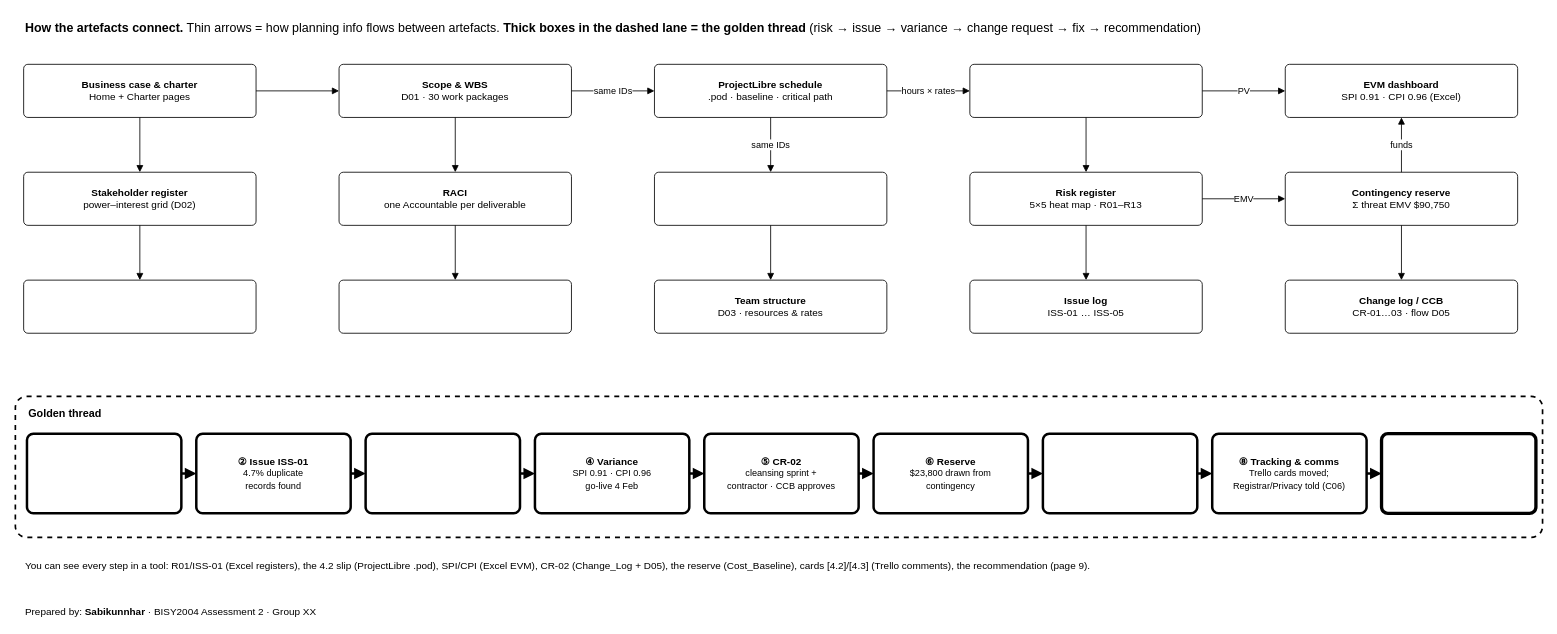
Image size: 1557x634. Some labels were removed from this diagram. Here are the shapes that lost their labels. From the top down, the centre of each, then its label:
At pixel 1085 90: "Cost baseline BAC $900,180 (Excel)".
At pixel 770 198: "Trello board [WBS] cards · list = % complete".
At pixel 139 306: "Comms plan C01–C11".
At pixel 454 306: "Quality metrics + control chart".
At pixel 103 473: "① Risk R01 data quality rated High (4×4)".
At pixel 442 473: "③ Schedule critical task 4.2 +10 days (ProjectLibre)".
At pixel 1119 473: "⑦ Re-baseline cost + schedule Baseline 1".
At pixel 1458 473: "⑨ Recommendation AMBER: go ahead with conditions".
